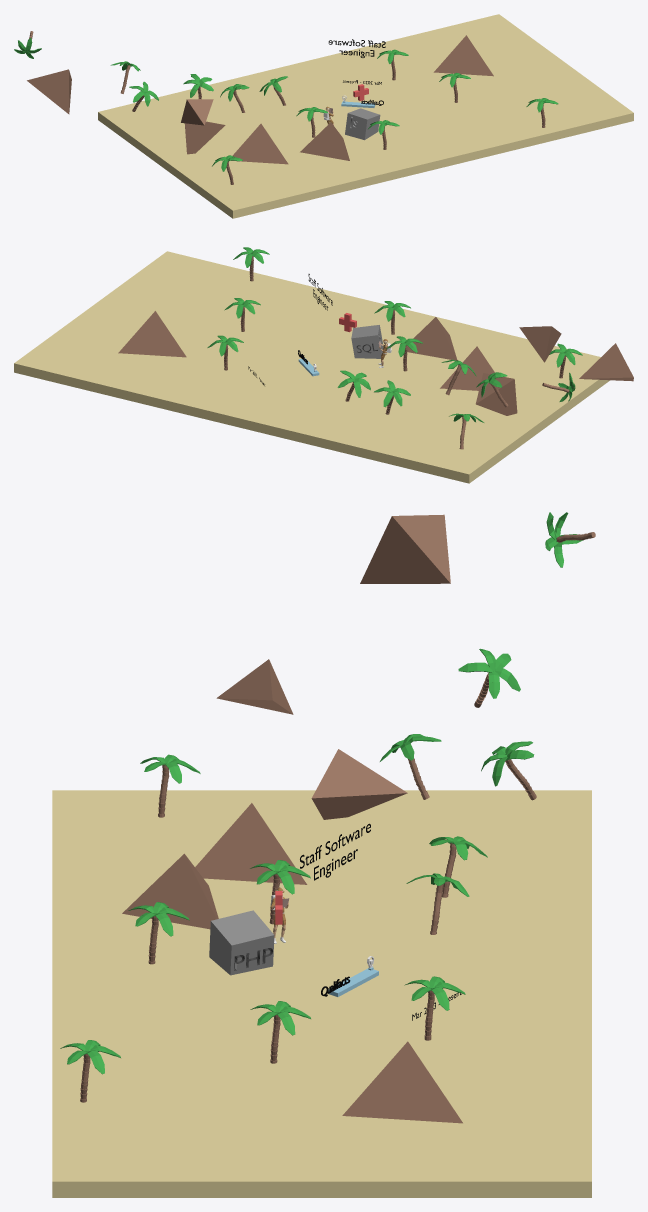
The picture shows the model from 3 angles, top to bottom: view 1: azimuth 30°, elevation 25°; view 2: azimuth 150°, elevation 25°; view 3: azimuth 270°, elevation 25°; orthographic projection. The views are drawn at different scales.
Parts seen in each view (by area): view 1: Cube, Cone.002, Cone, Cone.005, Cone.003, Cube.090, Cone.001, Cone.004, Cylinder.009, Cylinder.008, Text.015; view 2: Cube, Cone.002, Cone.003, Cone.001, Cone.005, Cone, Cube.090, Cone.004, Cylinder.010, Cylinder.001, Cylinder.004, Cylinder.023 (+5 smaller); view 3: Cube, Cone.005, Cone.002, Cone, Cone.001, Cone.003, Cube.090, Cone.004, Cylinder.006, Cylinder.009, Cylinder.005, Cylinder.002 (+5 smaller).
Boxes of the visible parts, <box> form: Cube: <box>98,14,633,218</box>; Cone.002: <box>433,35,493,76</box>; Cone: <box>231,123,288,164</box>; Cone.005: <box>27,69,71,114</box>; Cone.003: <box>300,122,349,160</box>; Cube.090: <box>345,108,380,140</box>; Cone.001: <box>184,121,225,154</box>; Cone.004: <box>181,99,213,125</box>; Cylinder.009: <box>129,81,158,111</box>; Cylinder.008: <box>183,74,213,99</box>; Text.015: <box>328,39,385,57</box>; Cube: <box>14,251,609,483</box>; Cone.002: <box>118,311,186,357</box>; Cone.003: <box>407,317,457,360</box>; Cone.001: <box>475,373,517,415</box>; Cone.005: <box>579,343,633,381</box>; Cone: <box>440,346,494,390</box>; Cube.090: <box>351,325,383,358</box>; Cone.004: <box>519,326,561,362</box>; Cylinder.010: <box>337,370,370,401</box>; Cylinder.001: <box>374,380,410,414</box>; Cylinder.004: <box>549,343,582,378</box>; Cylinder.023: <box>386,336,422,371</box>; Cube: <box>52,790,591,1197</box>; Cone.005: <box>360,514,450,583</box>; Cone.002: <box>342,1041,462,1123</box>; Cone: <box>195,803,307,884</box>; Cone.001: <box>311,749,407,819</box>; Cone.003: <box>122,853,218,929</box>; Cube.090: <box>209,910,274,975</box>; Cone.004: <box>216,659,293,714</box>; Cylinder.006: <box>458,648,520,707</box>; Cylinder.009: <box>481,741,536,800</box>; Cylinder.005: <box>404,976,465,1040</box>; Cylinder.002: <box>250,1001,310,1063</box>.
Size of the model in its own units: 49.12 by 10.04 by 22.7.
